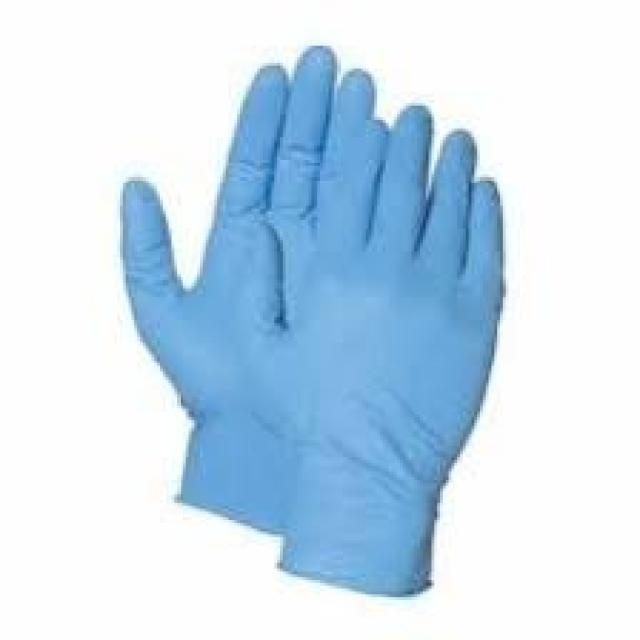Glove: (88, 23, 516, 608)
